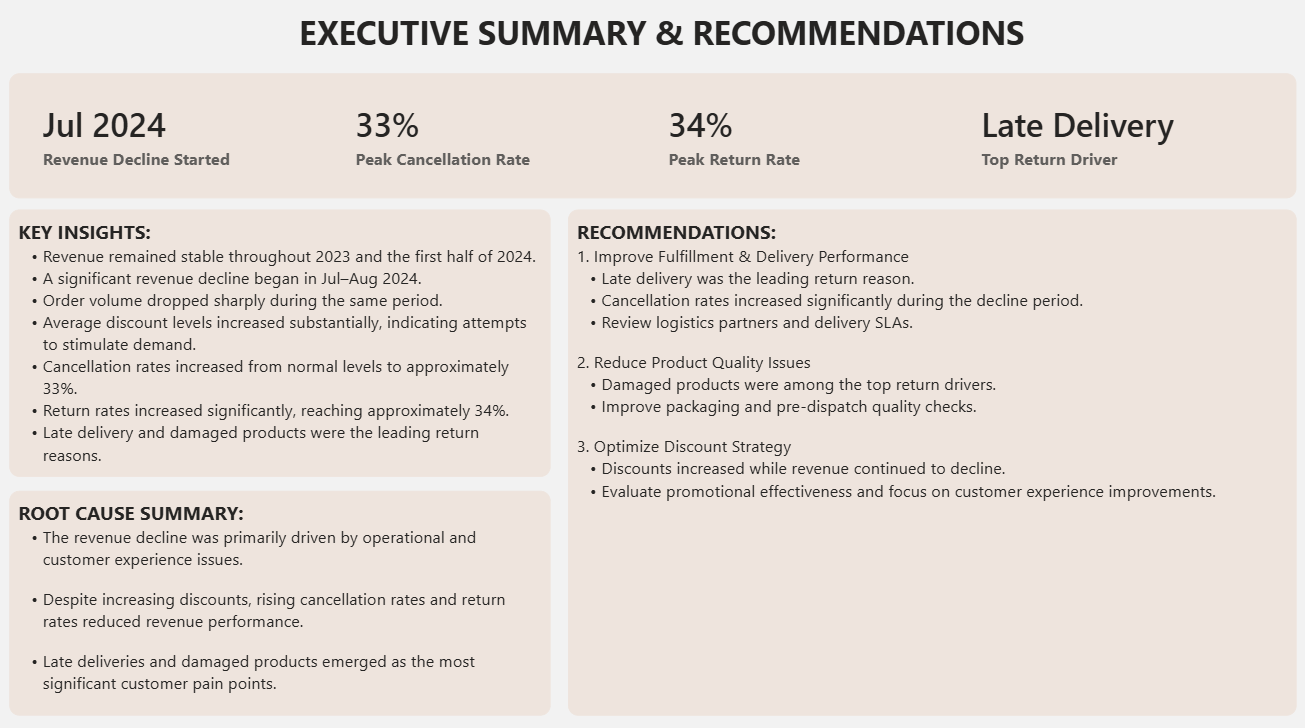

The page's visual inventory and layout, read from the dashboard file:
{"tool":"powerbi","page":{"name":"Executive Summary & Recommendations","canvas":[1280,720],"ordinal":2},"visuals":[{"type":"textbox","box":[11,212.8,529.5,261.7],"z":0},{"type":"textbox","box":[11,487.9,529.5,220.1],"z":1},{"type":"textbox","box":[557.6,212.8,712.9,495.2],"z":2},{"type":"textbox","box":[28.1,12.2,1242.4,56.3],"z":3},{"type":"cardVisual","fields":{"Data":["cleaned_orders.Revenue Decline Started","cleaned_orders.Peak Cancellation Rate","cleaned_returns.Peak Return Rate","cleaned_returns.Top Return Driver"]},"box":[11,79.5,1259.5,122.3],"z":4}]}

Visuals, with their boxes in screenshot pixels (x1, y1, x2, y2), scaled from the page's 1280x720 canvas onto the 1305x728 screenshot:
textbox: (left=11, top=215, right=551, bottom=480)
textbox: (left=11, top=493, right=551, bottom=716)
textbox: (left=568, top=215, right=1295, bottom=716)
textbox: (left=29, top=12, right=1295, bottom=69)
cardVisual - cleaned_orders.Revenue Decline Started x cleaned_orders.Peak Cancellation Rate: (left=11, top=80, right=1295, bottom=204)
